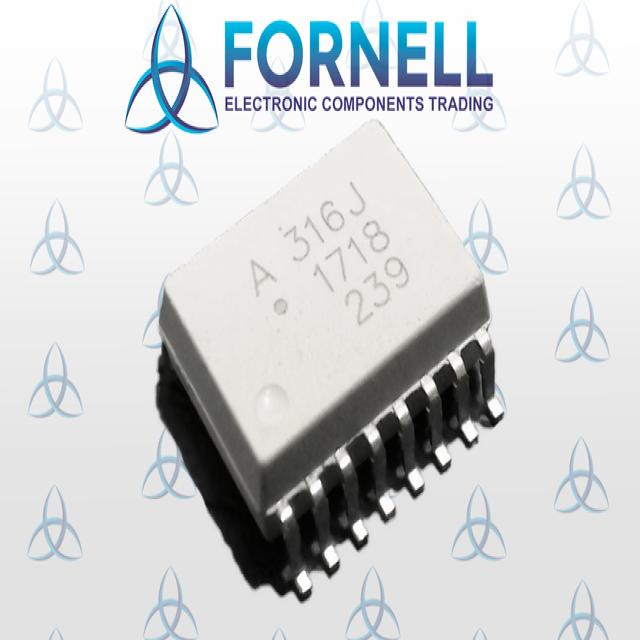IC: (156, 115, 504, 595)
